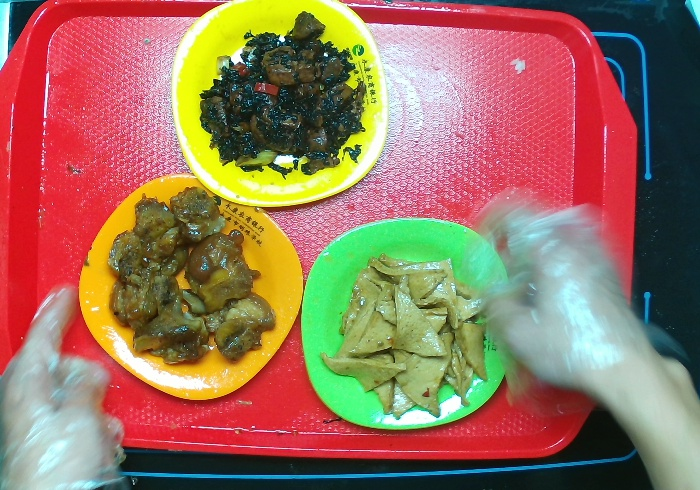YKMZ-Huang_Se_Fang_Die: (170, 1, 389, 209)
YKMZ-Ju_Se_Fang_Die: (77, 175, 302, 403)
YKMZ-Lv_Se_Fang_Die: (300, 217, 516, 430)
